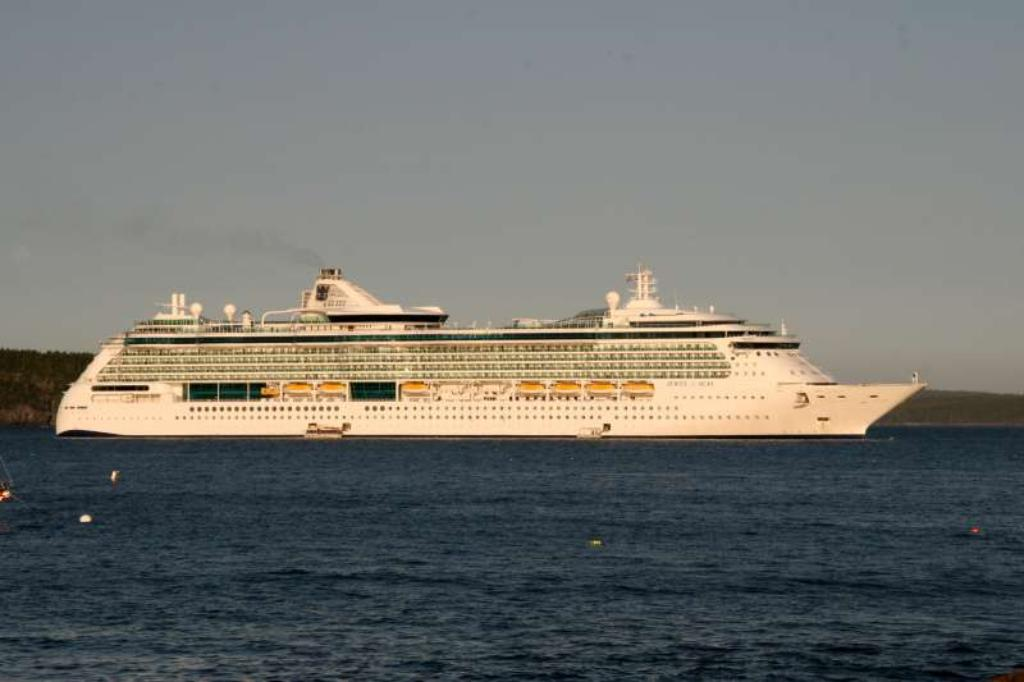PassengerShip: (36, 262, 932, 444)
